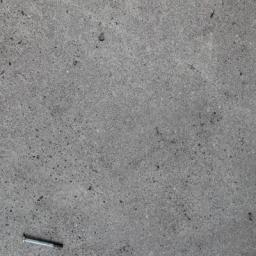FOD: (20, 232, 67, 256)
